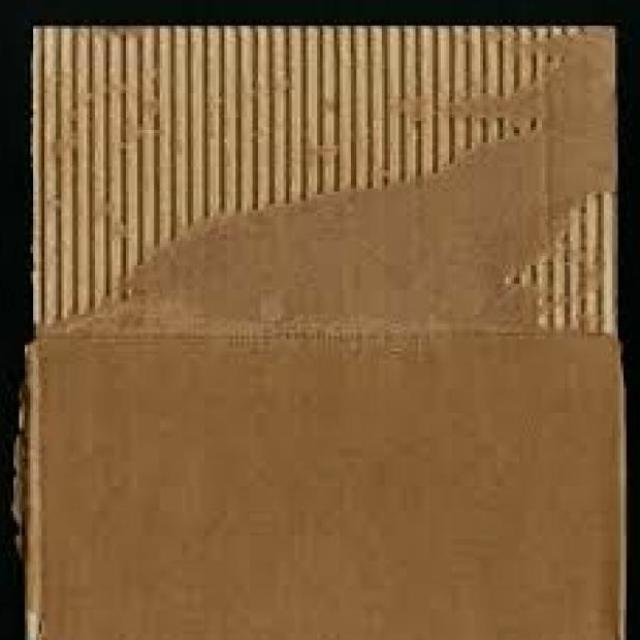cardboard paper: (41, 331, 616, 640)
